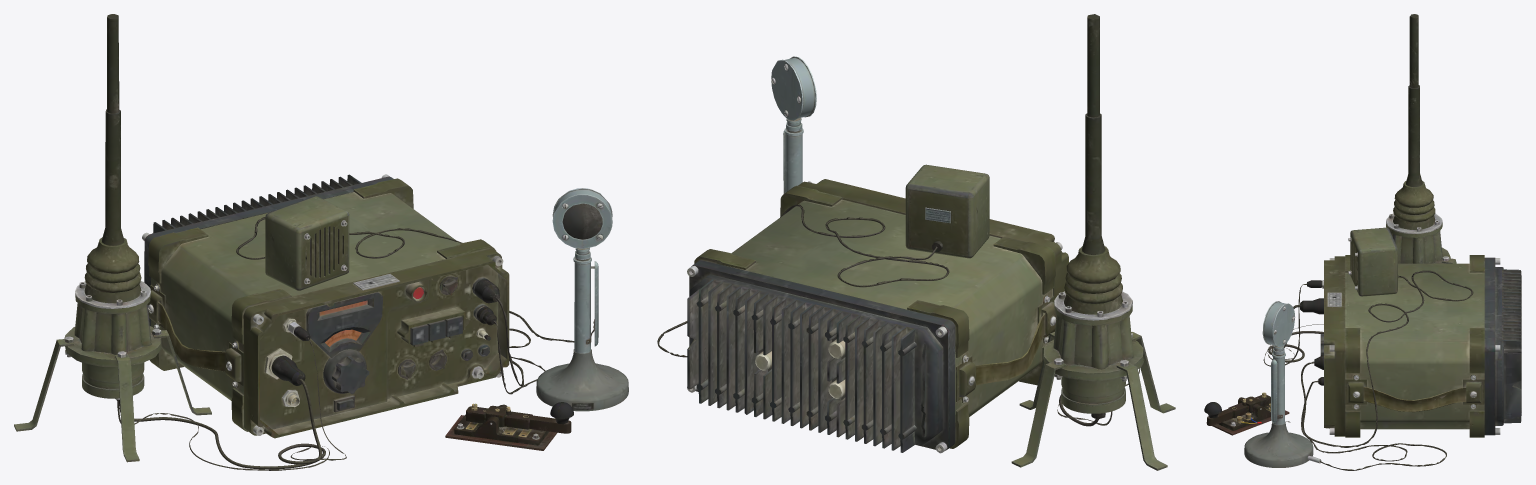
Rendered from vintage_radio_transceiver_512.glb.
The picture shows the model from 3 angles, left to right: view 1: azimuth 30°, elevation 25°; view 2: azimuth 150°, elevation 25°; view 3: azimuth 270°, elevation 25°; orthographic projection. The views are drawn at different scales.
Parts seen in each view (by area): view 1: vintage_radio_transceiver, vintage_radio_transceiver_antenna, vintage_radio_transceiver_microphone, vintage_radio_transceiver_speaker, vintage_radio_transceiver_cables, vintage_radio_transceiver_morse_key_base, vintage_radio_transceiver_morse_key_arm, vintage_radio_transceiver_dial, vintage_radio_transceiver_antenna_plug_a; view 2: vintage_radio_transceiver, vintage_radio_transceiver_antenna, vintage_radio_transceiver_speaker, vintage_radio_transceiver_microphone, vintage_radio_transceiver_cables; view 3: vintage_radio_transceiver, vintage_radio_transceiver_antenna, vintage_radio_transceiver_microphone, vintage_radio_transceiver_speaker, vintage_radio_transceiver_cables, vintage_radio_transceiver_morse_key_arm, vintage_radio_transceiver_morse_key_base.
Part boxes in pixels (x1=…): vintage_radio_transceiver: x1=142, y1=174, x2=509, y2=438; vintage_radio_transceiver_antenna: x1=14, y1=14, x2=211, y2=462; vintage_radio_transceiver_microphone: x1=536, y1=188, x2=628, y2=411; vintage_radio_transceiver_speaker: x1=265, y1=196, x2=349, y2=290; vintage_radio_transceiver_cables: x1=117, y1=217, x2=574, y2=470; vintage_radio_transceiver_morse_key_base: x1=445, y1=404, x2=557, y2=450; vintage_radio_transceiver_morse_key_arm: x1=466, y1=402, x2=573, y2=433; vintage_radio_transceiver_dial: x1=323, y1=329, x2=369, y2=393; vintage_radio_transceiver_antenna_plug_a: x1=271, y1=355, x2=305, y2=385; vintage_radio_transceiver: x1=687, y1=179, x2=1068, y2=453; vintage_radio_transceiver_antenna: x1=1011, y1=14, x2=1175, y2=470; vintage_radio_transceiver_speaker: x1=905, y1=164, x2=989, y2=258; vintage_radio_transceiver_microphone: x1=771, y1=56, x2=816, y2=193; vintage_radio_transceiver_cables: x1=657, y1=204, x2=1139, y2=426; vintage_radio_transceiver: x1=1324, y1=255, x2=1521, y2=437; vintage_radio_transceiver_antenna: x1=1386, y1=14, x2=1456, y2=263; vintage_radio_transceiver_microphone: x1=1244, y1=301, x2=1321, y2=467; vintage_radio_transceiver_speaker: x1=1348, y1=227, x2=1397, y2=296; vintage_radio_transceiver_cables: x1=1263, y1=270, x2=1473, y2=470; vintage_radio_transceiver_morse_key_arm: x1=1204, y1=392, x2=1270, y2=425; vintage_radio_transceiver_morse_key_base: x1=1206, y1=397, x2=1289, y2=435.
Size of the model in its own units: 0.574 by 0.4344 by 0.4131.
2 materials, 2 textured.
